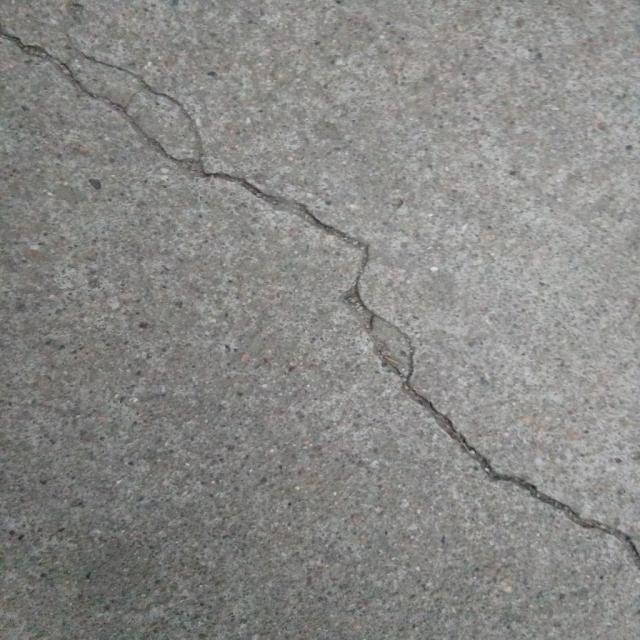cracks: (0, 11, 640, 596)
